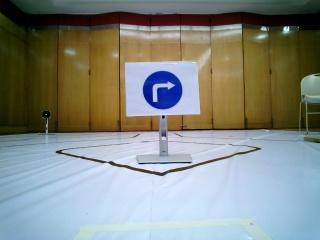right: (125, 68, 197, 115)
